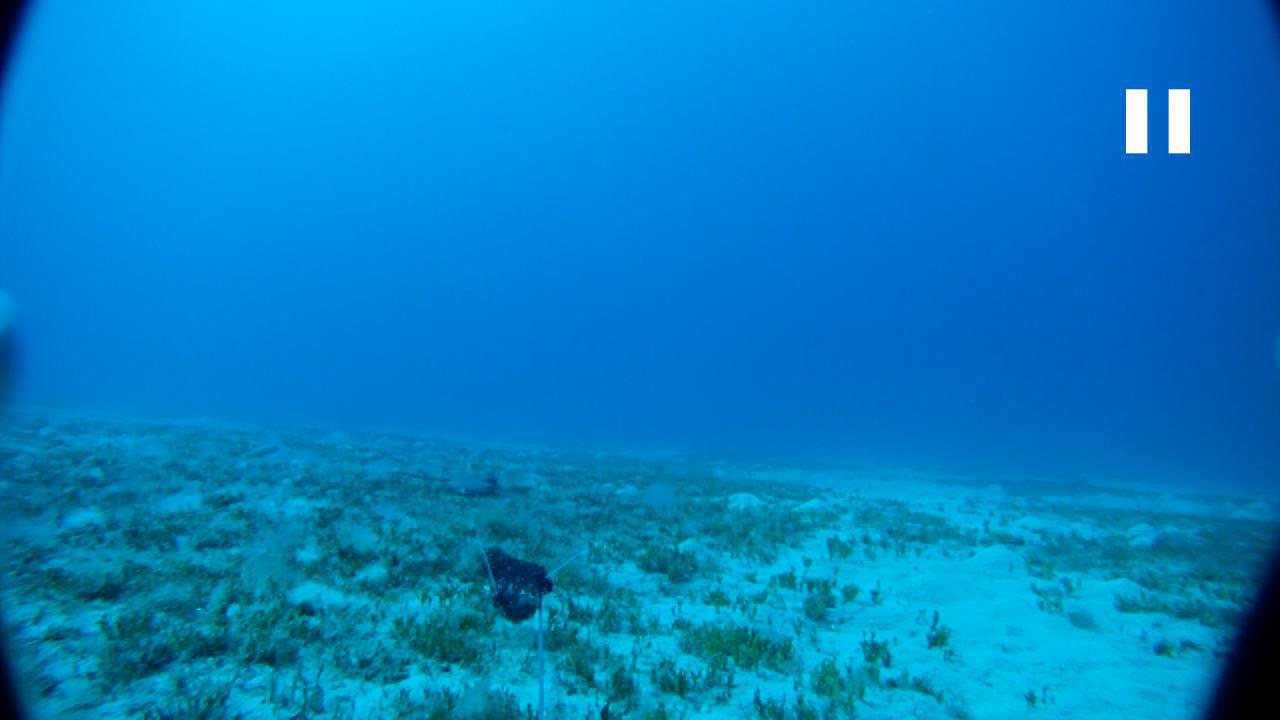dasyatis: (396, 471, 502, 496)
